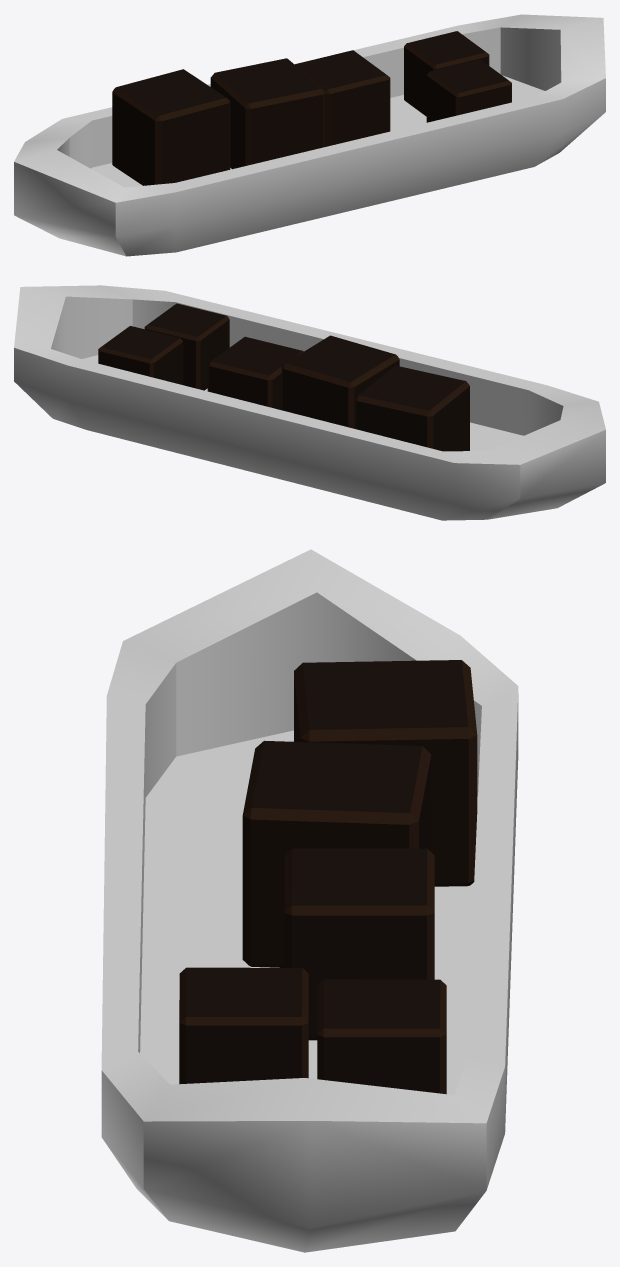
File: BoxBoat.fbx
3 renders of one model, top to bottom at view 1: azimuth 30°, elevation 25°; view 2: azimuth 150°, elevation 25°; view 3: azimuth 270°, elevation 25°, orthographic. The views are drawn at different scales.
Parts seen in each view (by area): view 1: FishBoat1, Box42, Box43, Box44, Box46, Box45; view 2: FishBoat1, Box42, Box43, Box44, Box46, Box45; view 3: FishBoat1, Box43, Box42, Box44, Box46, Box45.
Part boxes in pixels (<box>): FishBoat1: <box>14,14,605,256</box>; Box42: <box>112,69,230,185</box>; Box43: <box>210,58,325,169</box>; Box44: <box>294,50,390,146</box>; Box46: <box>426,59,511,122</box>; Box45: <box>404,31,489,116</box>; FishBoat1: <box>14,285,605,520</box>; Box42: <box>355,365,469,451</box>; Box43: <box>281,335,399,428</box>; Box44: <box>207,336,303,410</box>; Box46: <box>144,303,229,390</box>; Box45: <box>98,326,183,384</box>; FishBoat1: <box>101,549,518,1252</box>; Box43: <box>242,740,431,967</box>; Box42: <box>294,660,477,886</box>; Box44: <box>284,848,434,1040</box>; Box46: <box>179,967,308,1084</box>; Box45: <box>317,979,446,1094</box>.
Bounding box in the file's own units: 9.55 × 1.58 × 2.94.
